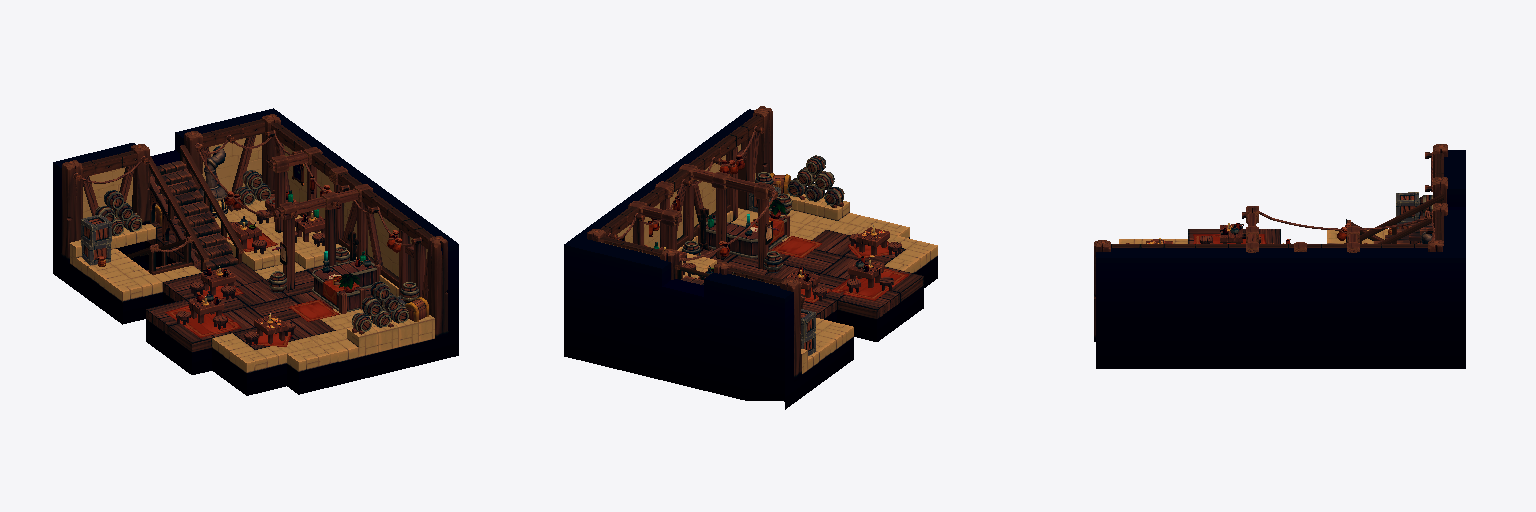
3 views of the same model, side by side, from view 1: azimuth 30°, elevation 25°; view 2: azimuth 150°, elevation 25°; view 3: azimuth 270°, elevation 25° (orthographic).
Parts seen in each view (by area): view 1: TheInn; view 2: TheInn; view 3: TheInn.
Part boxes in pixels (bbox=[...]): TheInn: bbox=[53, 108, 458, 395]; TheInn: bbox=[564, 106, 937, 409]; TheInn: bbox=[1094, 144, 1465, 368].
Bounding box in the file's own units: 111 × 56.41 × 161.
Materials: 1 (1 with a texture image).